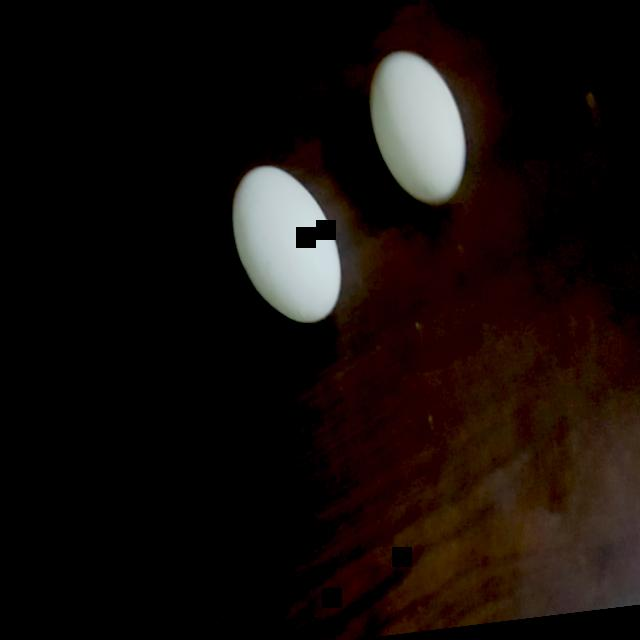eggs: (222, 149, 350, 337), (354, 39, 479, 208)
